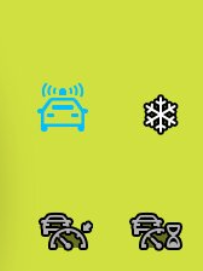ACC_AKTIV: (30, 204, 103, 260)
ACC_WAITING: (124, 203, 191, 254)
EISSTERN: (134, 89, 189, 140)
SEV_INF: (26, 76, 109, 147)
